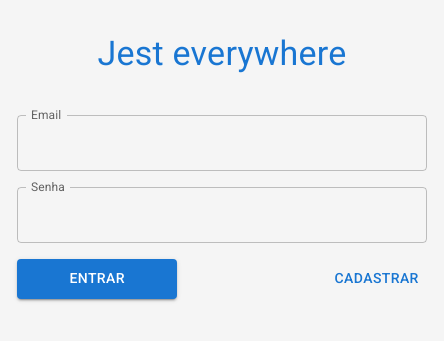
Test: login › should render require email valid
Type "admin@" into the field labelled "Email".
click(222, 143); type("admin@")  # box [17,115,427,171]
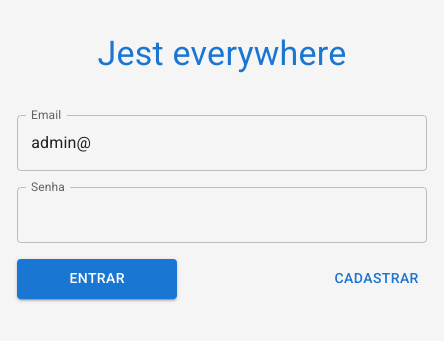
Click the button "Entrar".
click(97, 279)  # box [17,259,177,299]
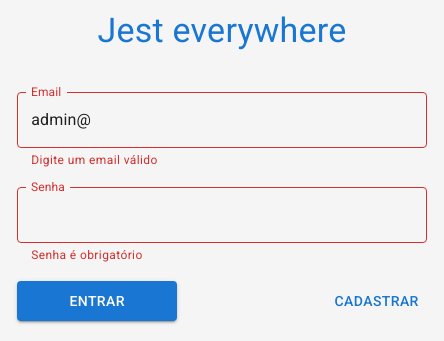
Check: the text "Digite um email válido" is shown, box [31,153,158,167]
Check: the text "Senha é obrigatório" is shown, box [31,248,143,262]
